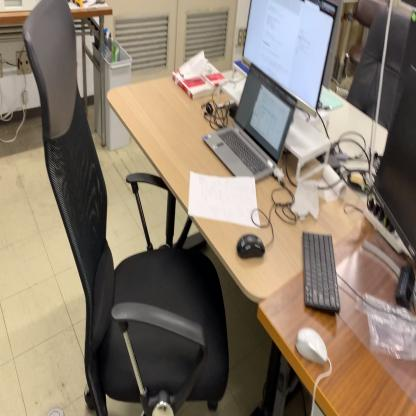chair: (22, 0, 230, 416)
